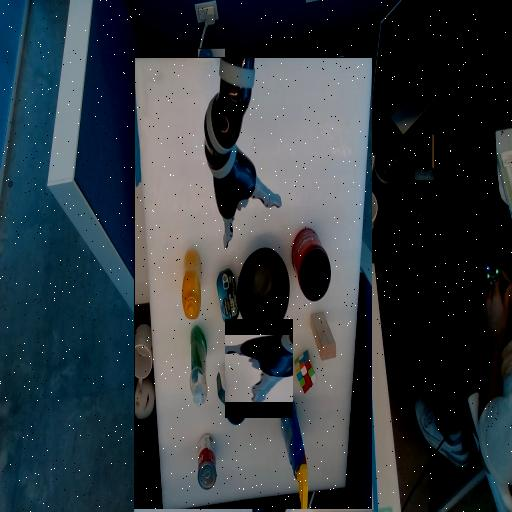bowl: (217, 250, 268, 302)
cleanser: (300, 161, 316, 241)
coffee_can: (176, 267, 214, 338)
jaco: (225, 335, 293, 403)
meat_can: (268, 245, 289, 298)
mug: (259, 143, 289, 199)
mustard_bottle: (306, 249, 324, 317)
rubik: (190, 174, 212, 217)
soup_can: (291, 78, 308, 133)
tennis_ball: (221, 188, 238, 218)
windex: (198, 49, 225, 167)
wooden_block: (170, 219, 195, 244)
workspace: (134, 58, 372, 509)
